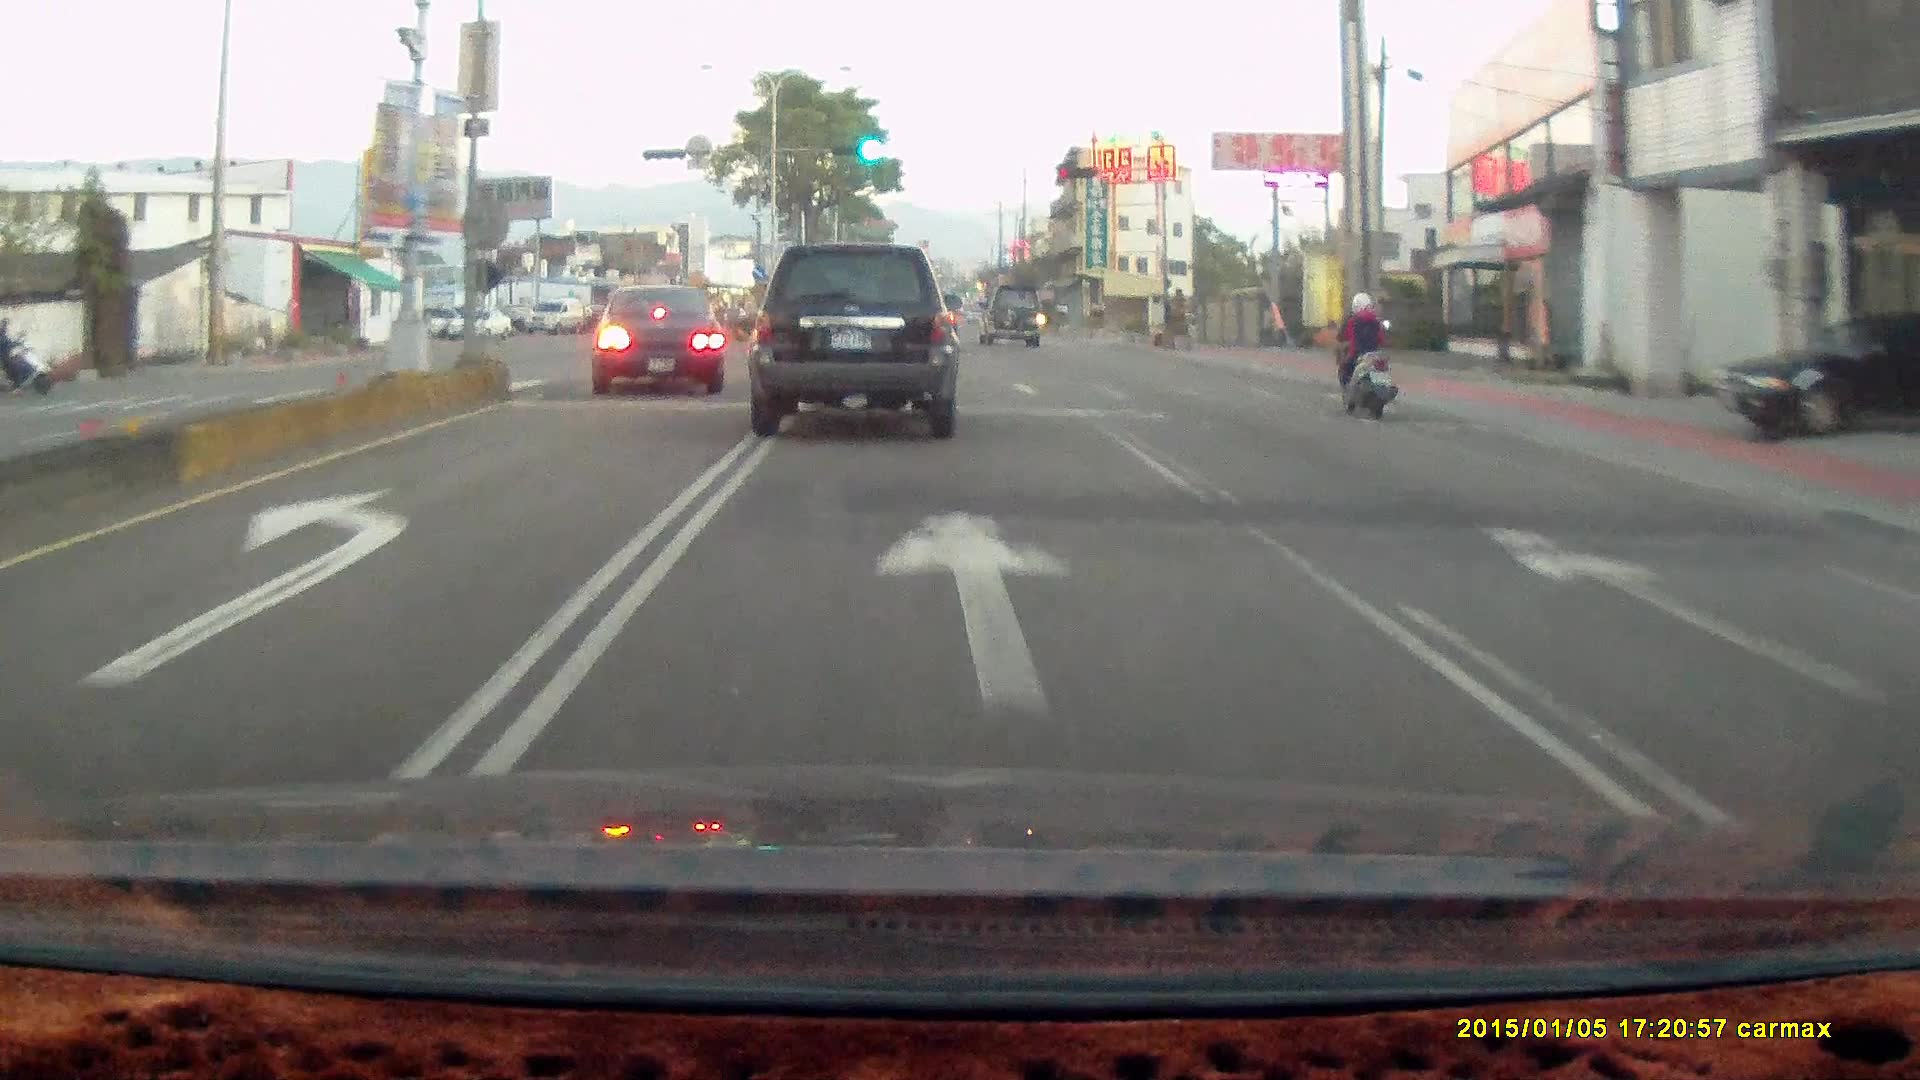rider: (1318, 278, 1410, 430), (1326, 292, 1395, 419), (0, 320, 57, 391)
vehicle: (745, 234, 964, 434), (746, 242, 961, 438), (1713, 308, 1920, 439), (1728, 308, 1910, 447), (586, 285, 732, 402), (583, 285, 726, 397), (976, 285, 1047, 350), (975, 283, 1042, 346), (444, 304, 511, 341), (524, 297, 583, 334)
